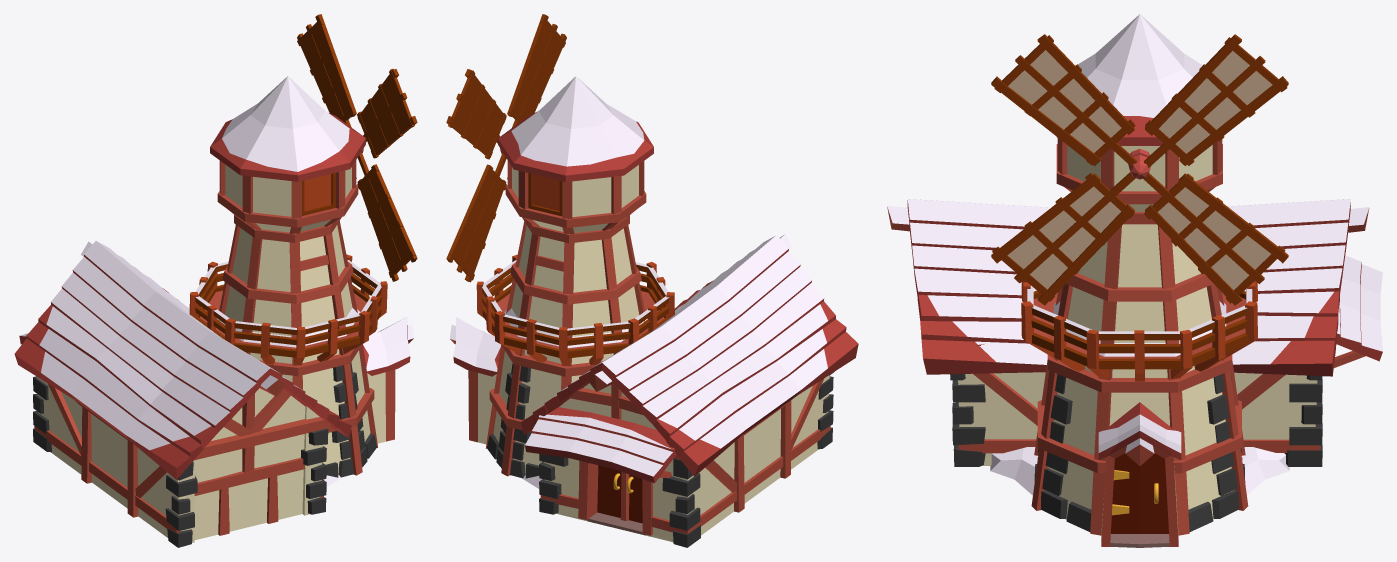
File: winter_castle_windmill.glb
The picture shows the model from 3 angles, left to right: view 1: azimuth 30°, elevation 25°; view 2: azimuth 150°, elevation 25°; view 3: azimuth 270°, elevation 25°; orthographic projection. The views are drawn at different scales.
Parts seen in each view (by area): view 1: Windmill_Medieval_0; view 2: Windmill_Medieval_0; view 3: Windmill_Medieval_0.
Part boxes in pixels (x1,y1,x2,y2): Windmill_Medieval_0: (14,14,417,547); Windmill_Medieval_0: (446,14,858,547); Windmill_Medieval_0: (887,14,1382,547).
Bounding box in the file's own units: 5.76 × 6.7 × 6.05.
1 material, 1 textured.
